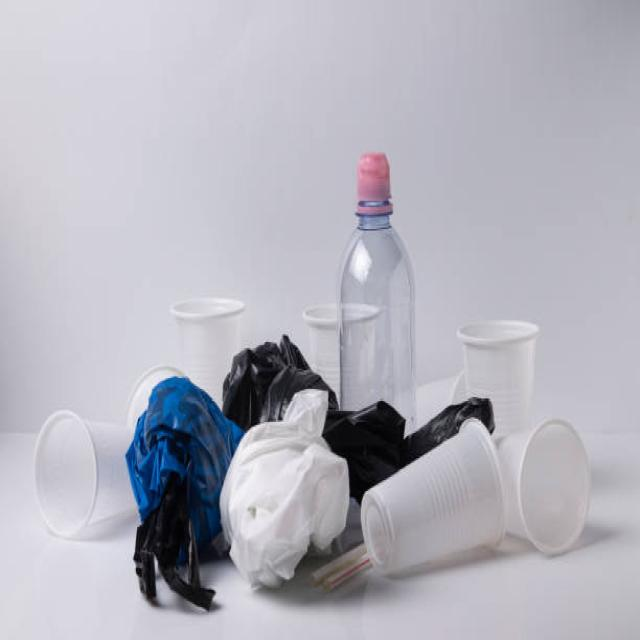plastic: (31, 182, 608, 551)
